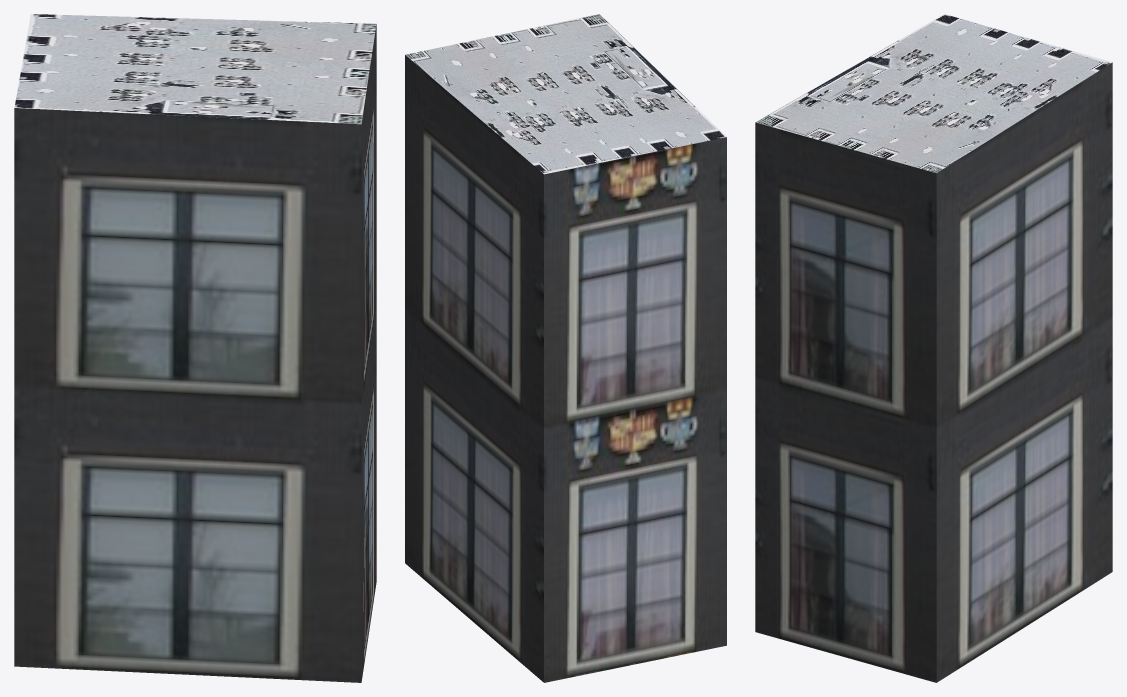
The model's file is ResTex__4869.fbx.
The picture shows the model from 3 angles, left to right: view 1: azimuth 30°, elevation 25°; view 2: azimuth 150°, elevation 25°; view 3: azimuth 270°, elevation 25°; orthographic projection. The views are drawn at different scales.
Parts seen in each view (by area): view 1: CityEngineMaterial_22_m, CityEngineMaterial_m; view 2: CityEngineMaterial_22_m, CityEngineMaterial_m; view 3: CityEngineMaterial_22_m, CityEngineMaterial_m.
Boxes of the visible parts, <box> form: CityEngineMaterial_22_m: <box>14,24,376,682</box>; CityEngineMaterial_m: <box>14,14,376,124</box>; CityEngineMaterial_22_m: <box>405,55,726,682</box>; CityEngineMaterial_m: <box>405,14,726,174</box>; CityEngineMaterial_22_m: <box>755,62,1112,682</box>; CityEngineMaterial_m: <box>755,14,1111,173</box>.
Size of the model in its own units: 4.02 by 6 by 3.81.
2 materials, 2 textured.
